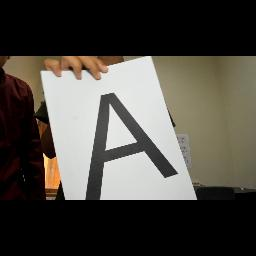a: (73, 88, 195, 200)
